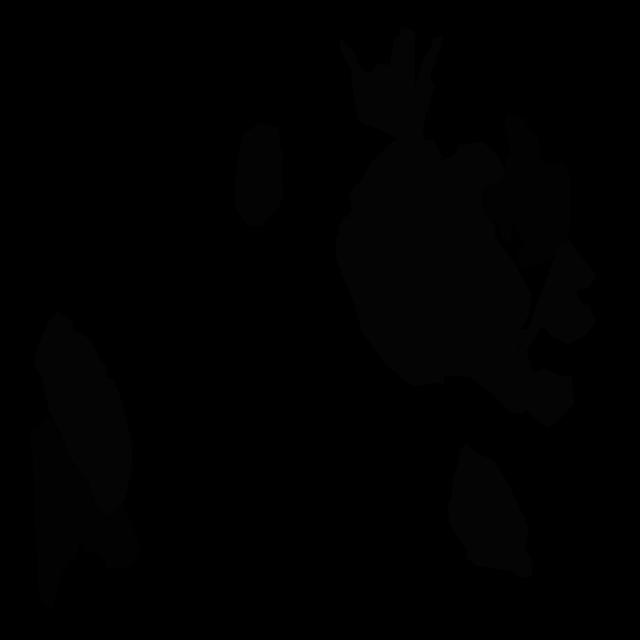cardboard: (30, 416, 142, 608), (481, 113, 570, 268)
metal: (234, 122, 284, 225)
soft_plastic: (335, 134, 531, 414), (34, 311, 132, 514), (518, 240, 597, 429), (339, 26, 443, 139), (447, 443, 532, 577)
